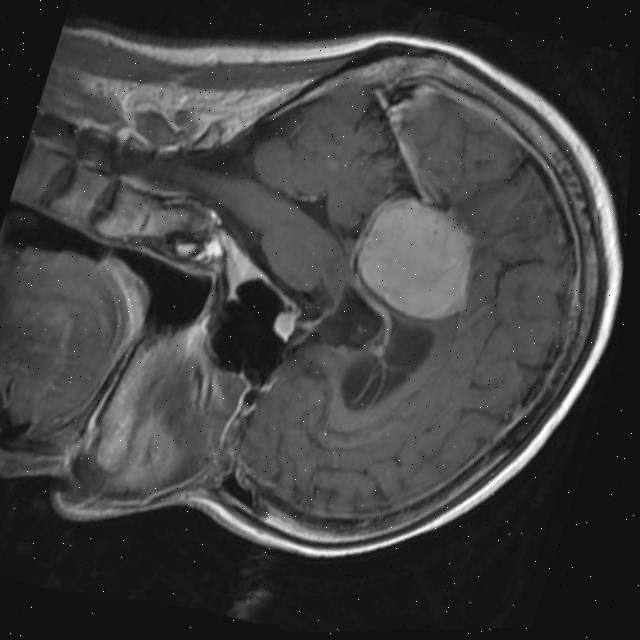Meningioma: (329, 183, 498, 345)
